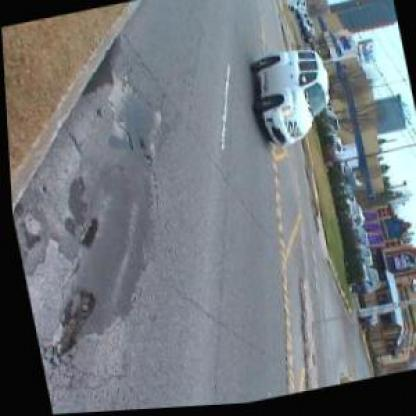pothole: (37, 289, 104, 359), (73, 218, 104, 249), (138, 154, 156, 169), (134, 137, 147, 151)
